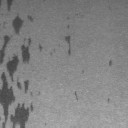red iron: (0, 35, 34, 128), (12, 14, 34, 34), (64, 35, 71, 54), (7, 0, 14, 12), (74, 92, 78, 101), (38, 45, 42, 50), (109, 60, 112, 66), (66, 25, 70, 29)
